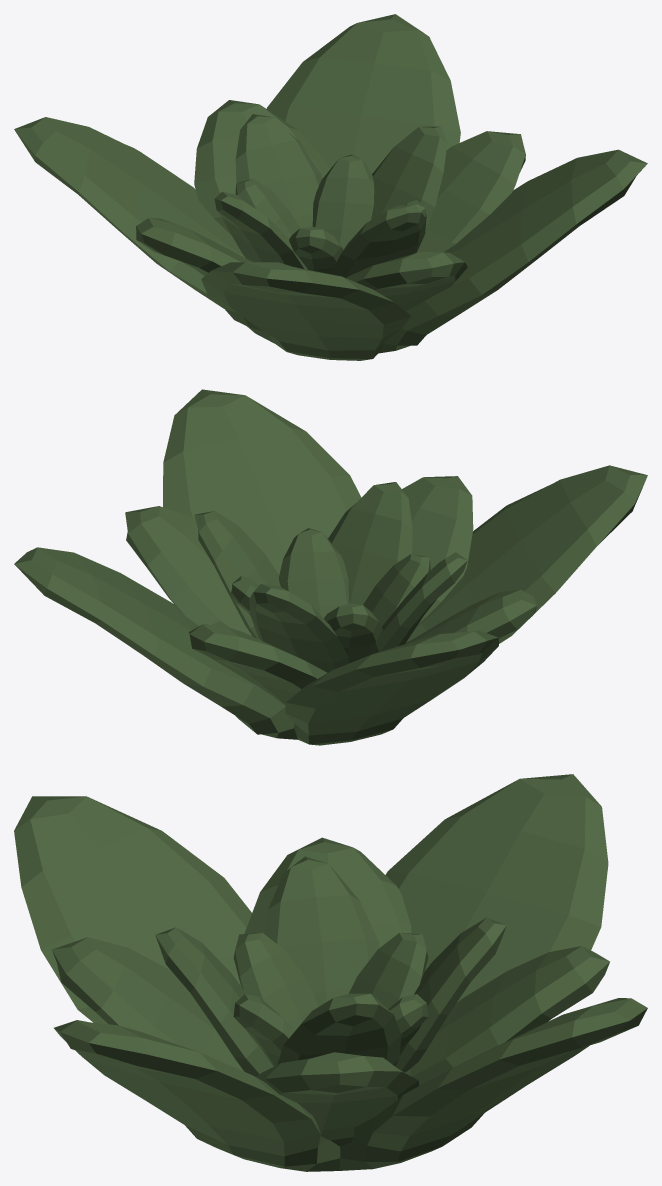
Rendered from CactusFlower_1.glb.
3 renders of one model, top to bottom at view 1: azimuth 30°, elevation 25°; view 2: azimuth 150°, elevation 25°; view 3: azimuth 270°, elevation 25°, orthographic. The views are drawn at different scales.
Visible parts, largest first — view 1: CactusFlower_1_Plane.012; view 2: CactusFlower_1_Plane.012; view 3: CactusFlower_1_Plane.012.
Part boxes in pixels (x1=…): CactusFlower_1_Plane.012: x1=14, y1=14, x2=647, y2=360; CactusFlower_1_Plane.012: x1=14, y1=389, x2=647, y2=745; CactusFlower_1_Plane.012: x1=14, y1=774, x2=647, y2=1171.
Size of the model in its own units: 0.8819 by 0.3613 by 0.8683.
